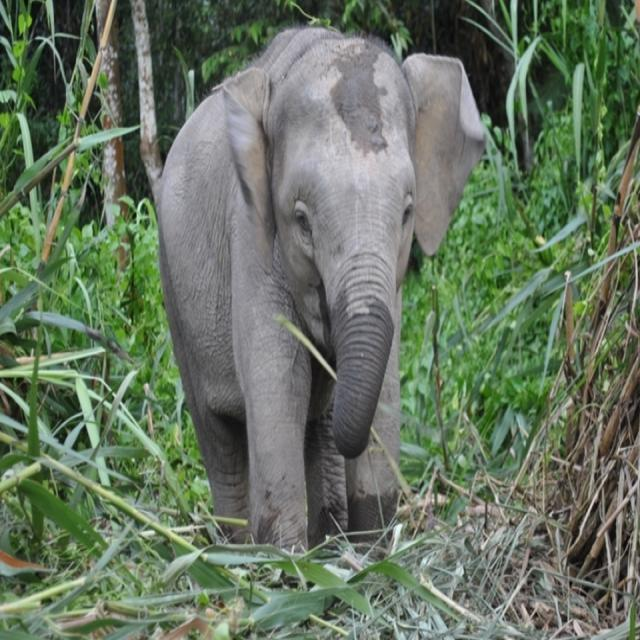Elephant: (151, 11, 507, 611)
